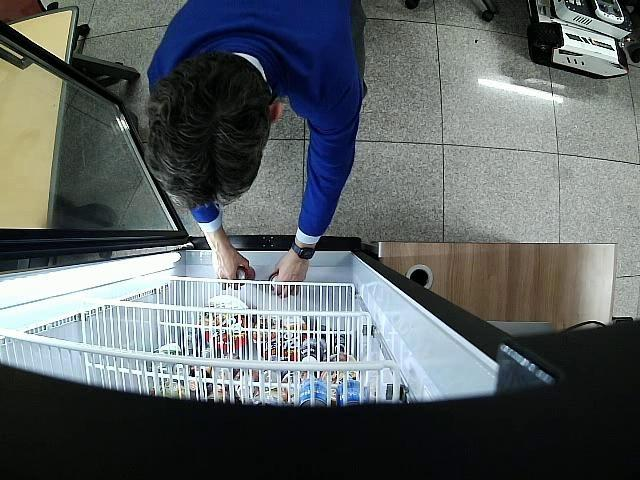11_cocaColaZero: (236, 266, 257, 285), (270, 271, 280, 291)
